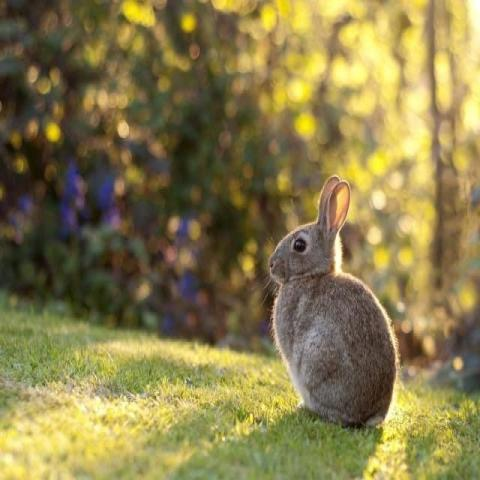small_animal: (264, 174, 400, 430)
